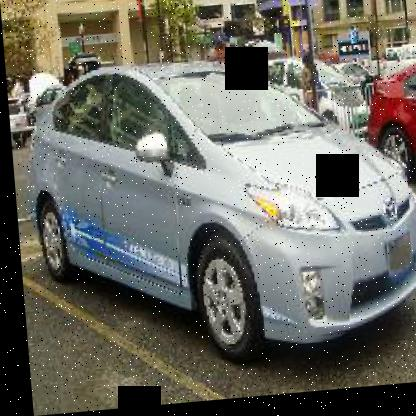not_emergency: (21, 36, 415, 376)
